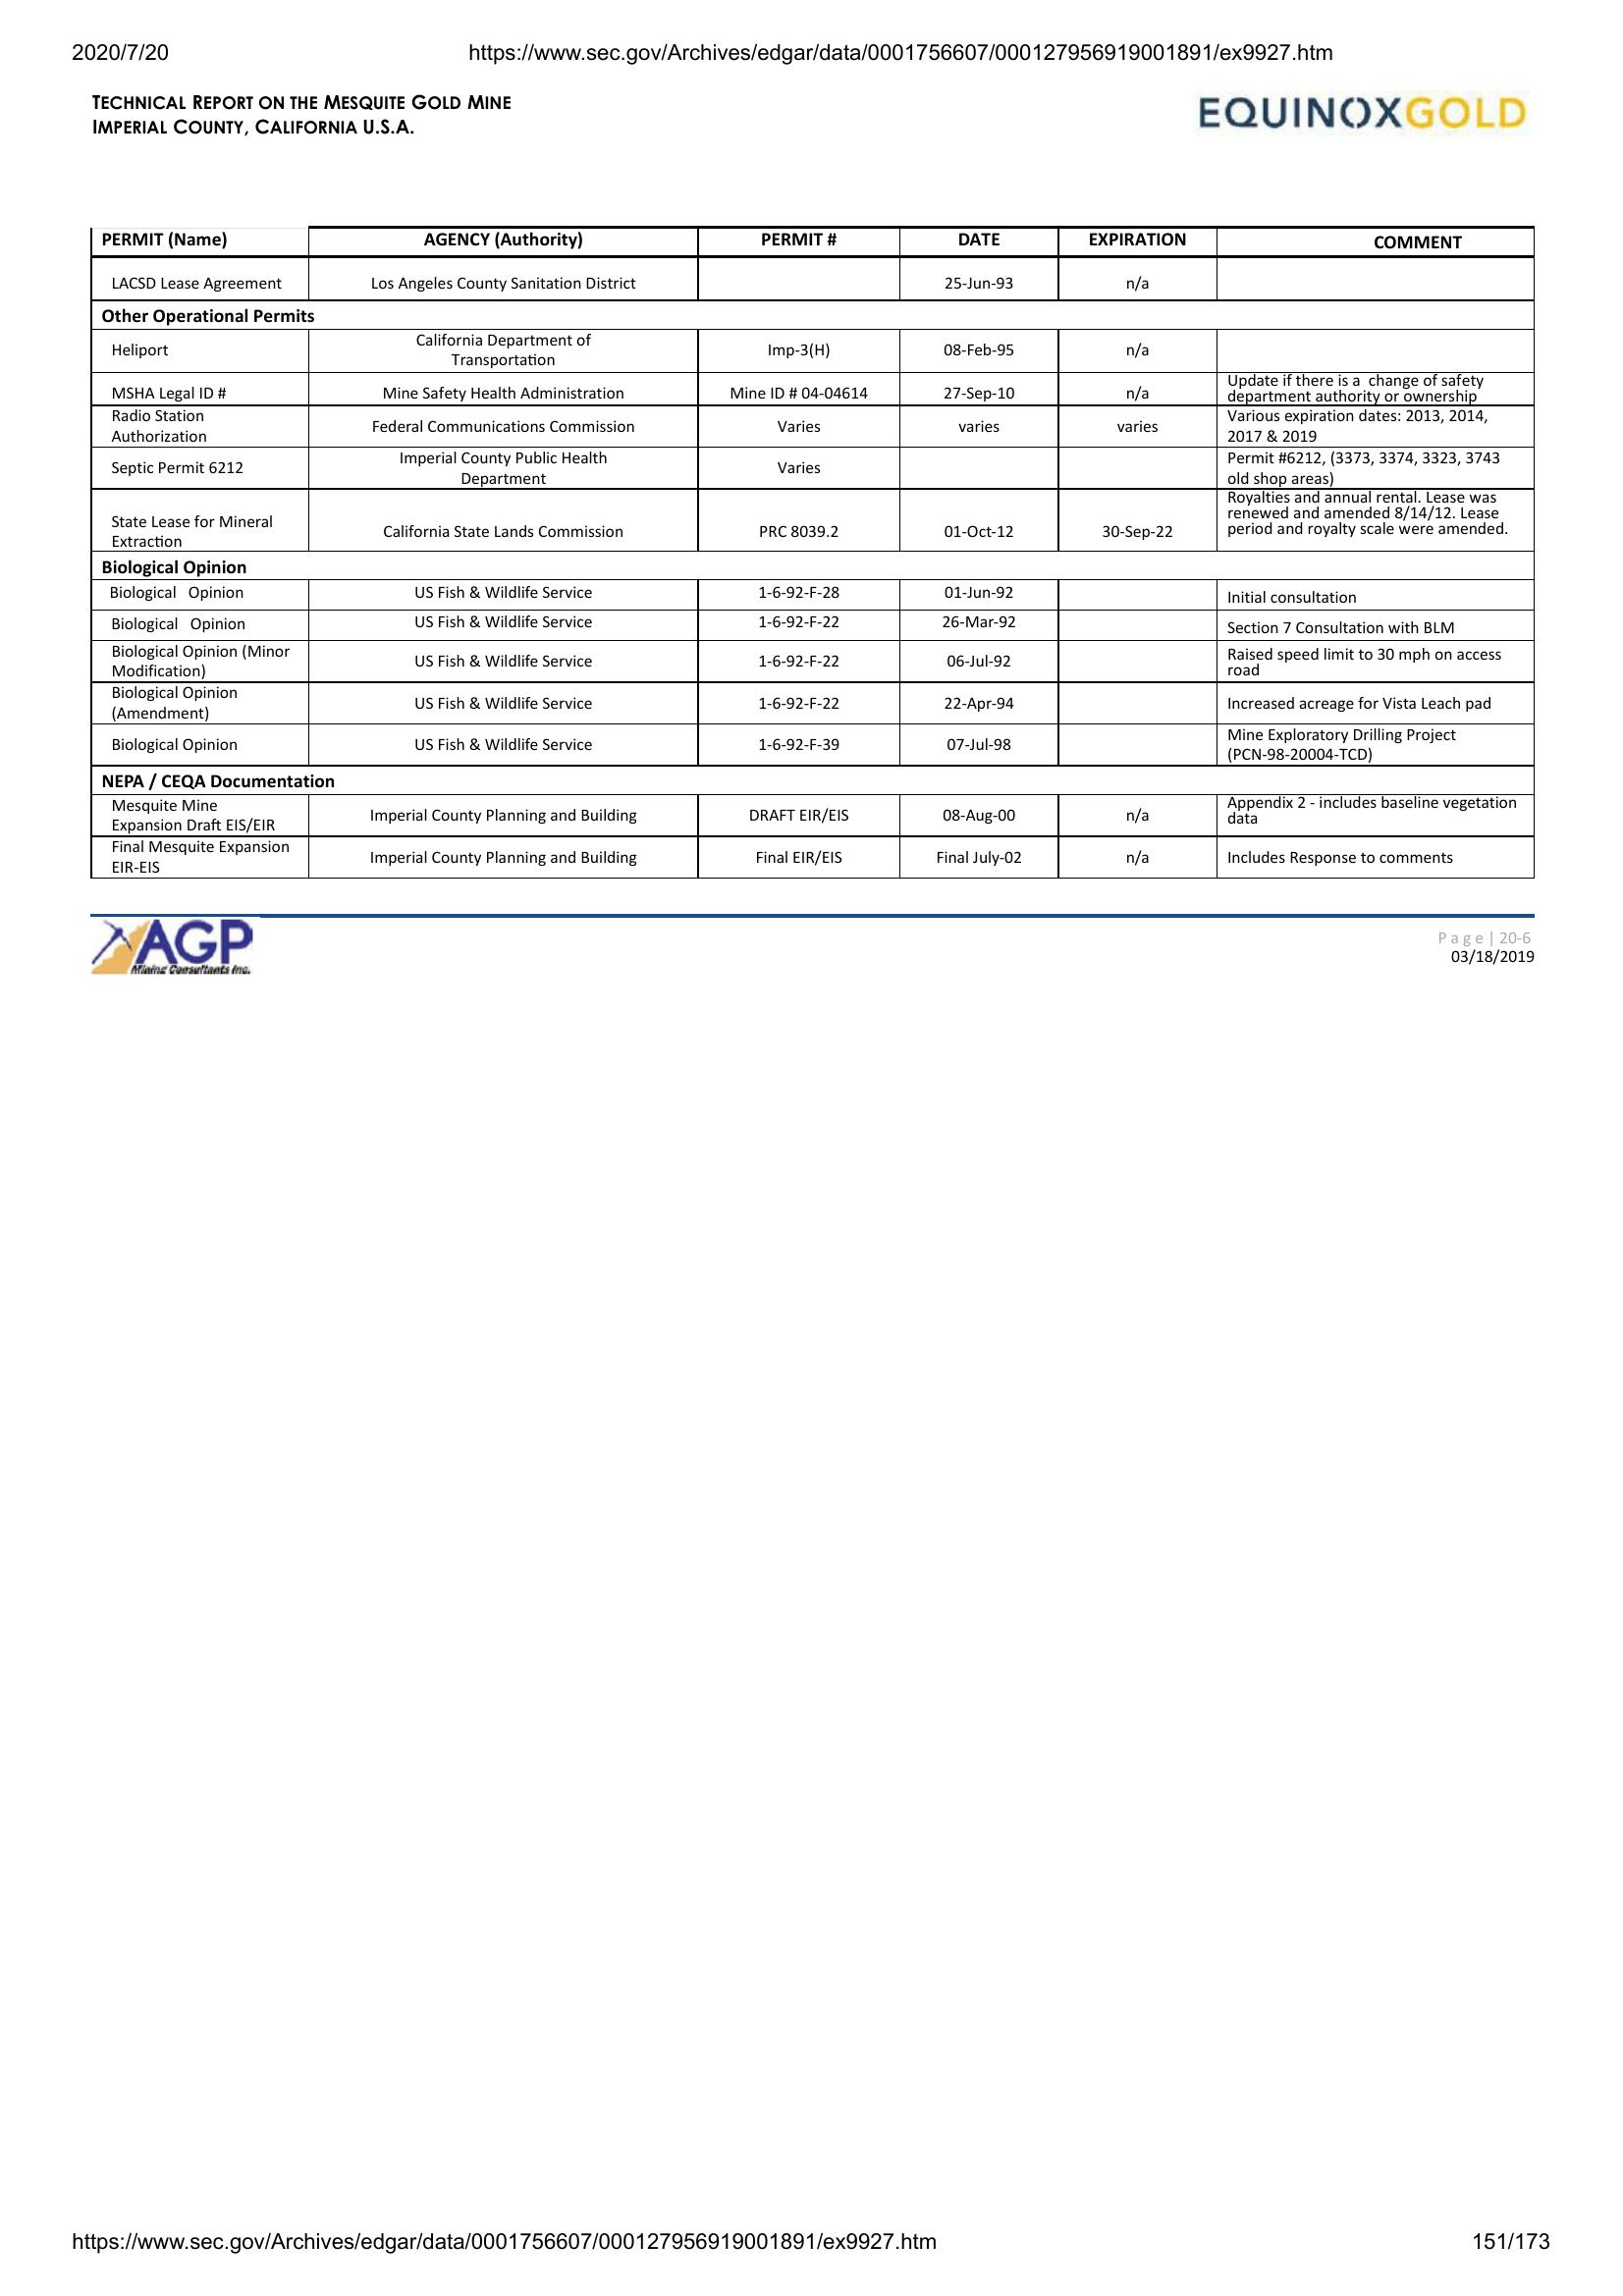table: (83, 219, 1542, 881)
